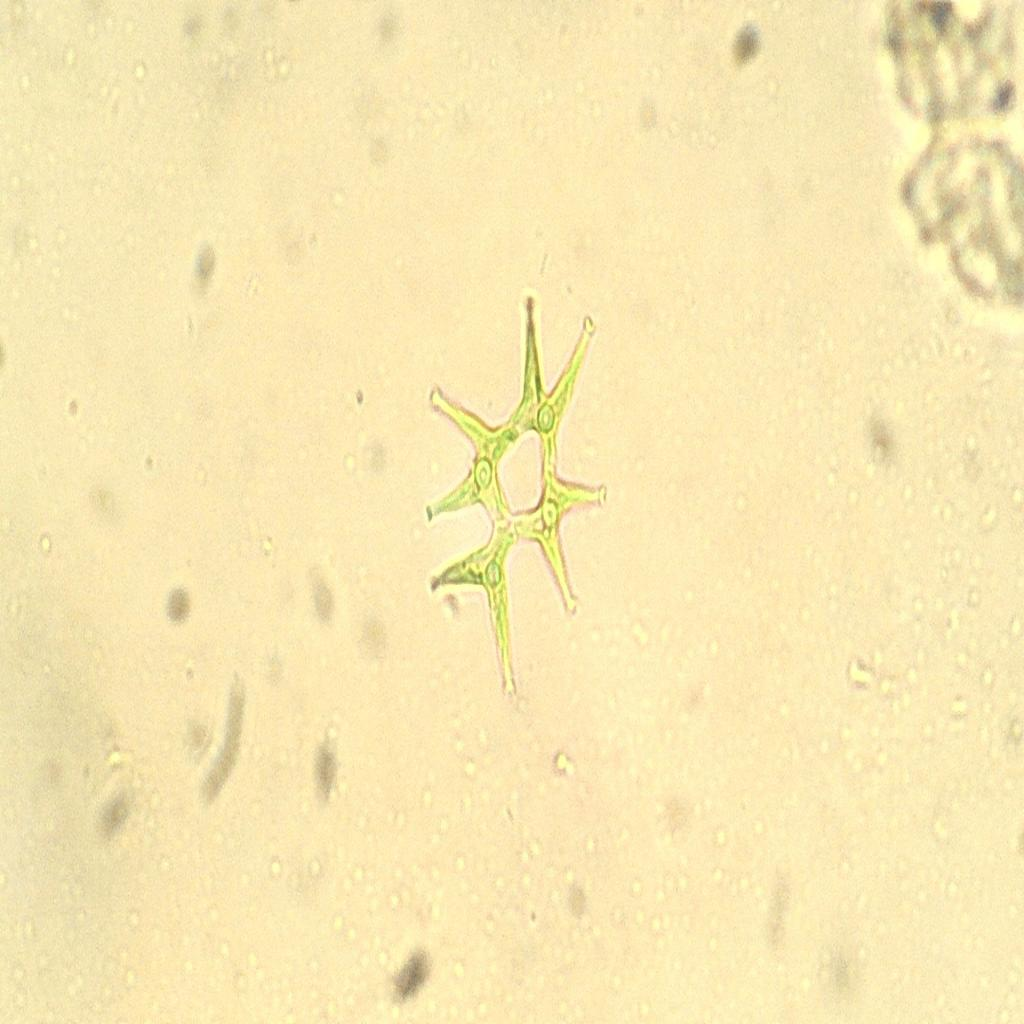Pediastrum_75FI: (411, 251, 612, 716)
